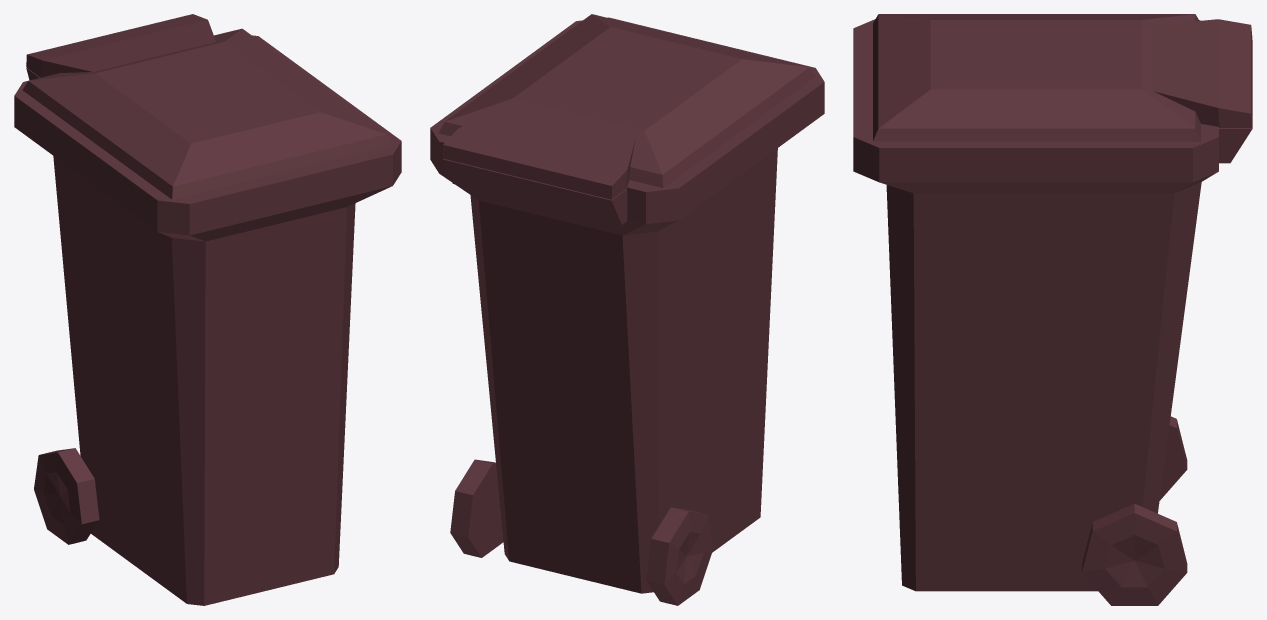
Rendered from bin-wheelie.fbx.
3 views of the same model, side by side, from view 1: azimuth 30°, elevation 25°; view 2: azimuth 150°, elevation 25°; view 3: azimuth 270°, elevation 25° (orthographic). The views are drawn at different scales.
Visible parts, largest first — view 1: bin-wheelie-base, bin-wheelie-top; view 2: bin-wheelie-base, bin-wheelie-top; view 3: bin-wheelie-base, bin-wheelie-top.
Boxes of the visible parts, x1,y1,x2,y2 form: bin-wheelie-base: [14, 35, 401, 605]; bin-wheelie-top: [22, 14, 392, 199]; bin-wheelie-base: [430, 17, 824, 605]; bin-wheelie-top: [439, 14, 815, 199]; bin-wheelie-base: [853, 19, 1252, 605]; bin-wheelie-top: [873, 14, 1252, 141].
Size of the model in its own units: 0.596 by 1.06 by 0.7695.
